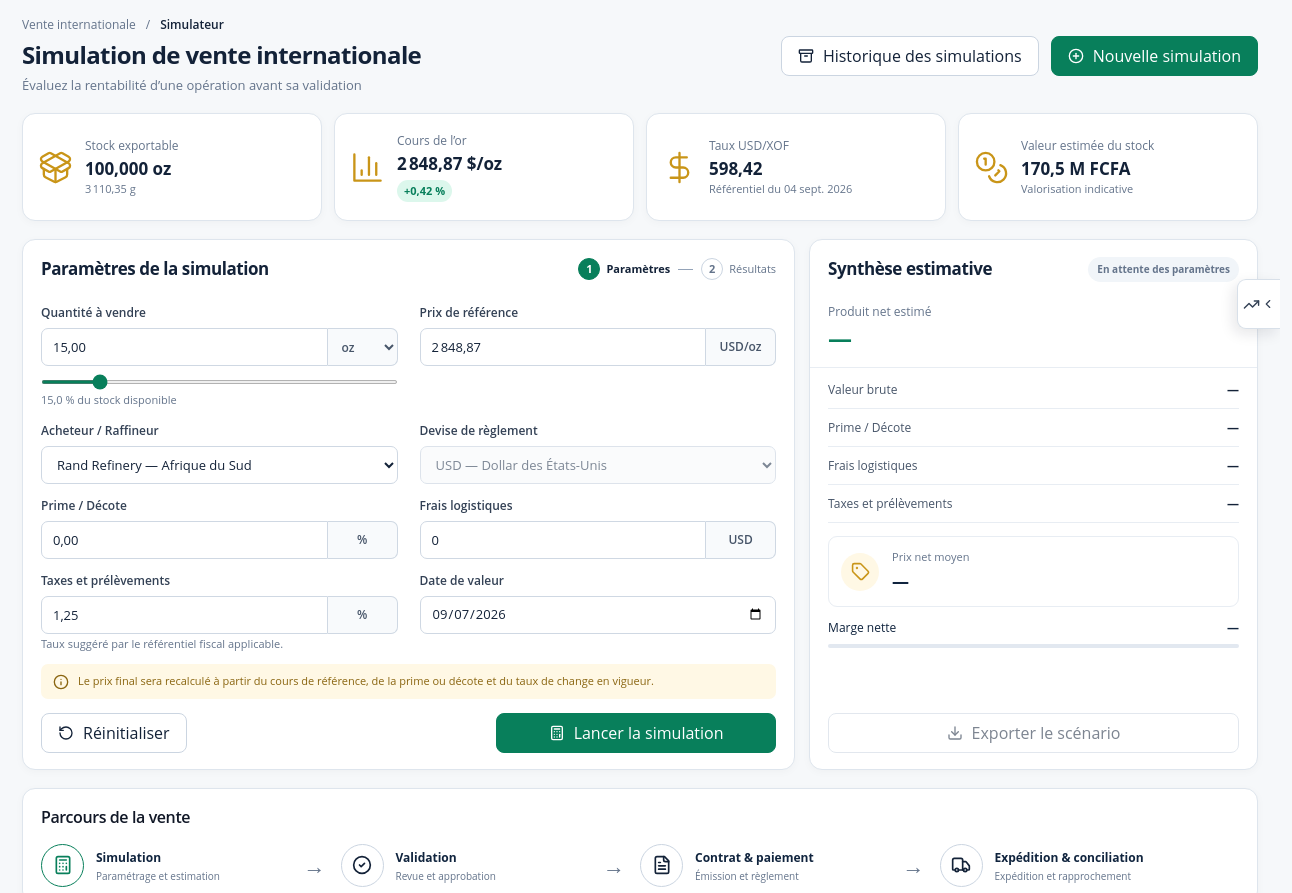
Test: InternationalSaleSimulator › conserve le résultat si l’historisation échoue et affiche une erreur locale
The image size is (1292, 893).
Expected: the text "Stock exportable" is shown, [85,137,178,155]
What coordinates should you click on to do the following:
click the button "Lancer la simulation"
I would click on:
 (636, 733)
Its box is [496,713,776,753].
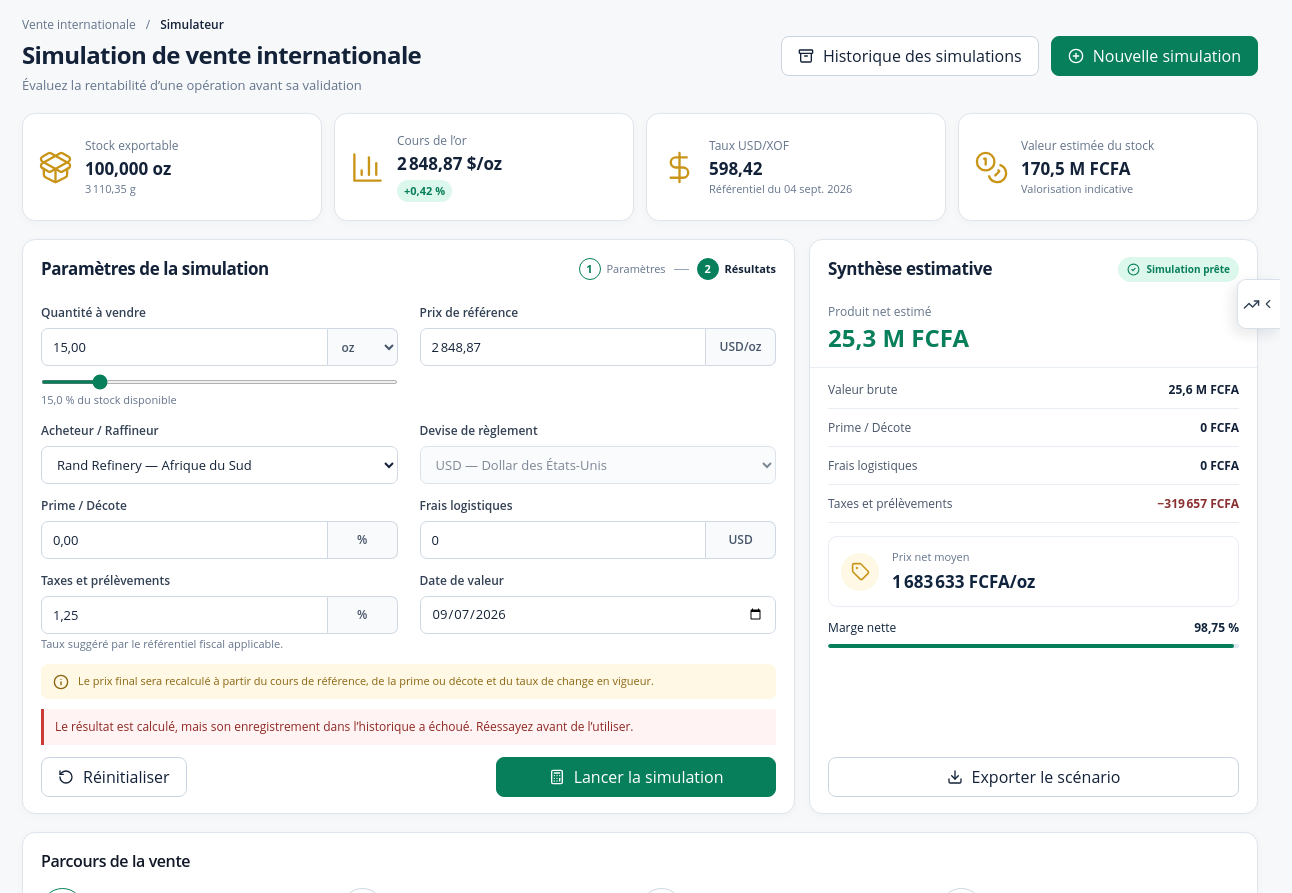
Result: the text "son enregistrement dans l’historique a échoué" is shown at [55,718,634,735]
Result: the text "Simulation prête" is shown at [1118,257,1239,282]
